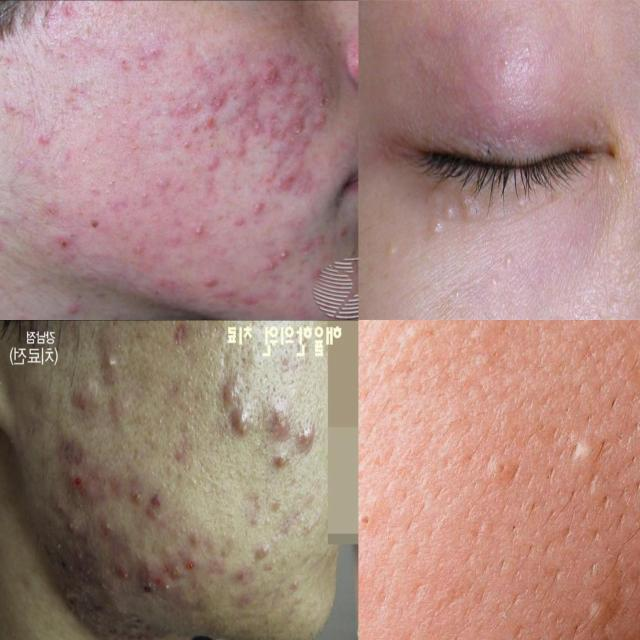7: (472, 241, 524, 303), (418, 203, 462, 240), (595, 162, 629, 208), (372, 238, 406, 276)
8: (256, 57, 278, 93), (250, 193, 266, 221), (203, 154, 223, 174), (289, 113, 304, 139)
9: (277, 243, 302, 266), (188, 219, 210, 245), (100, 518, 122, 538), (102, 352, 120, 372), (312, 111, 330, 130), (142, 560, 158, 578)
blackheads: (456, 192, 495, 229), (225, 408, 255, 442), (168, 321, 190, 363), (62, 581, 92, 611), (422, 173, 446, 210), (510, 187, 536, 221), (166, 558, 187, 586), (252, 540, 272, 568), (147, 488, 163, 518), (271, 411, 290, 436), (269, 450, 290, 469), (302, 427, 315, 453)
dark spot: (358, 495, 394, 558)
pustules: (65, 465, 96, 507), (58, 522, 84, 546)
